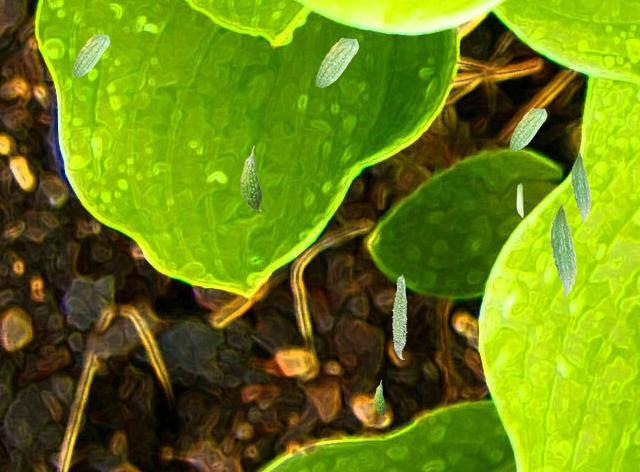ampalaya: (550, 203, 577, 297), (315, 37, 359, 88), (509, 107, 547, 151), (72, 33, 110, 77), (239, 145, 262, 211), (571, 152, 591, 223), (391, 275, 407, 359), (373, 379, 386, 416), (516, 182, 524, 218), (396, 273, 405, 288)
